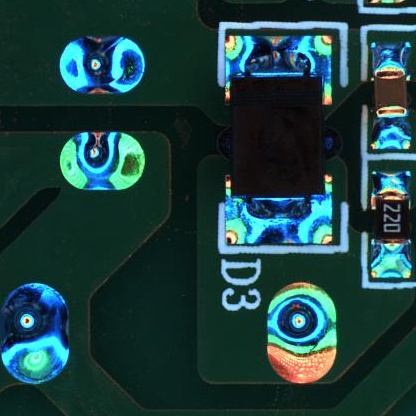spot: (1, 282, 71, 386), (267, 281, 336, 383), (60, 131, 146, 192), (59, 36, 145, 95)
